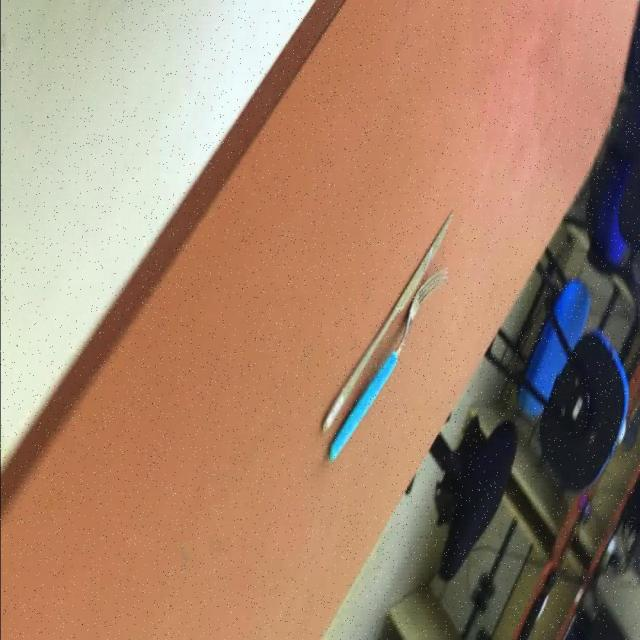Fork: (327, 269, 451, 464)
Knife: (321, 210, 455, 437)
